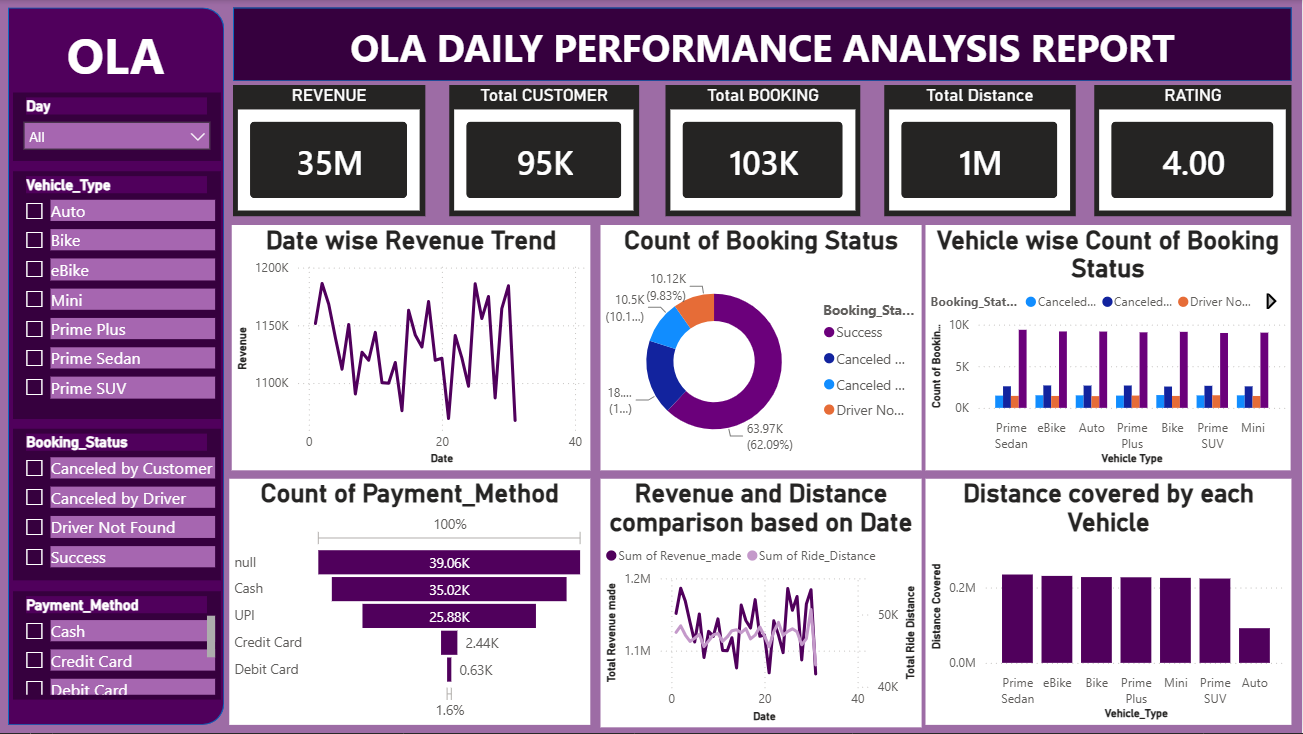

The page's visual inventory and layout, read from the dashboard file:
{"tool":"powerbi","page":{"name":"Dashboard","canvas":[1280,720],"ordinal":6},"visuals":[{"type":"shape","box":[9.8,7.4,212.3,704.3],"z":0},{"type":"shape","box":[230.7,7.4,1039.3,72.4],"z":1000},{"type":"textbox","box":[230.7,16,1039.3,63.8],"z":2000},{"type":"cardVisual","title":"REVENUE","fields":{"Data":["Sum(ola_data_sqll.Revenue_made)"]},"box":[230.7,83.9,189,128.8],"z":3000},{"type":"cardVisual","title":"Total CUSTOMER","fields":{"Data":["Count(ola_data_sqll.Customer_ID)"]},"box":[442.9,83.9,186.5,128.8],"z":4000},{"type":"cardVisual","title":"Total Distance","fields":{"Data":["Sum(ola_data_sqll.Ride_Distance)"]},"box":[869.9,83.9,187.7,128.8],"z":5000},{"type":"cardVisual","title":"Total BOOKING","fields":{"Data":["CountNonNull(ola_data_sqll.Booking_ID)"]},"box":[655.2,83.9,191.4,128.8],"z":6000},{"type":"cardVisual","title":"RATING","fields":{"Data":["Avg(ola_data_sqll.Customer_Rating)"]},"box":[1076.1,83.9,193.9,128.8],"z":7000},{"type":"slicer","fields":{"Values":["ola_data_sqll.Booking_Status"]},"box":[14.7,420.9,203.7,148.5],"z":8000},{"type":"slicer","fields":{"Values":["ola_data_sqll.Vehicle_Type"]},"box":[14.7,168.1,203.7,242.9],"z":9000},{"type":"slicer","fields":{"Values":["ola_data_sqll.Date.Variation.Date Hierarchy.Day"]},"box":[14.7,90.8,203.7,67.5],"z":10000},{"type":"slicer","fields":{"Values":["ola_data_sqll.Payment_Method"]},"box":[14.7,580.4,203.7,106.7],"z":11000},{"type":"textbox","box":[23.3,16,184.1,74.8],"z":12000},{"type":"lineChart","title":"Date wise Revenue Trend","fields":{"Category":["ola_data_sqll.Date.Variation.Date Hierarchy.Day"],"Y":["Sum(ola_data_sqll.Revenue_made)"]},"box":[229.7,221.1,352.1,240.5],"z":13000},{"type":"donutChart","title":"Count of Booking Status","fields":{"Category":["ola_data_sqll.Booking_Status"],"Y":["CountNonNull(ola_data_sqll.Booking_Status)"]},"box":[591.7,221.1,315.3,240.5],"z":14000},{"type":"clusteredColumnChart","title":"Vehicle wise Count of Booking Status","fields":{"Category":["ola_data_sqll.Vehicle_Type"],"Y":["CountNonNull(ola_data_sqll.Booking_Status)"],"Series":["ola_data_sqll.Booking_Status"]},"box":[910.7,221.1,358.3,240.5],"z":15000},{"type":"funnel","title":"Count of Payment_Method","fields":{"Category":["ola_data_sqll.Payment_Method"],"Y":["CountNonNull(ola_data_sqll.Payment_Method)"]},"box":[227,469.9,354.6,241.7],"z":16000},{"type":"clusteredColumnChart","title":"Distance covered by each Vehicle","fields":{"Category":["ola_data_sqll.Vehicle_Type"],"Y":["Sum(ola_data_sqll.Ride_Distance)"]},"box":[910.4,469.9,359.5,241.7],"z":17000},{"type":"lineChart","title":"Revenue and Distance comparison based on Date","fields":{"Category":["ola_data_sqll.Date.Variation.Date Hierarchy.Day"],"Y":["Sum(ola_data_sqll.Revenue_made)"],"Y2":["Sum(ola_data_sqll.Ride_Distance)"]},"box":[591.4,469.9,315.3,244.2],"z":18000}]}

Visuals, with their boxes in screenshot pixels (x1, y1, x2, y2), scaled from the page's 1280x720 canvas onto the 1303x734 screenshot:
shape: 10 8 226 726
shape: 235 8 1293 81
textbox: 235 16 1293 81
"REVENUE" cardVisual: 235 86 427 217
"Total CUSTOMER" cardVisual: 451 86 641 217
"Total Distance" cardVisual: 886 86 1077 217
"Total BOOKING" cardVisual: 667 86 862 217
"RATING" cardVisual: 1095 86 1293 217
slicer - ola_data_sqll.Booking_Status: 15 429 222 580
slicer - ola_data_sqll.Vehicle_Type: 15 171 222 419
slicer - ola_data_sqll.Date.Variation.Date Hierarchy.Day: 15 93 222 161
slicer - ola_data_sqll.Payment_Method: 15 592 222 700
textbox: 24 16 211 93
"Date wise Revenue Trend" lineChart: 234 225 592 471
"Count of Booking Status" donutChart: 602 225 923 471
"Vehicle wise Count of Booking Status" clusteredColumnChart: 927 225 1292 471
"Count of Payment_Method" funnel: 231 479 592 725
"Distance covered by each Vehicle" clusteredColumnChart: 927 479 1293 725
"Revenue and Distance comparison based on Date" lineChart: 602 479 923 728
